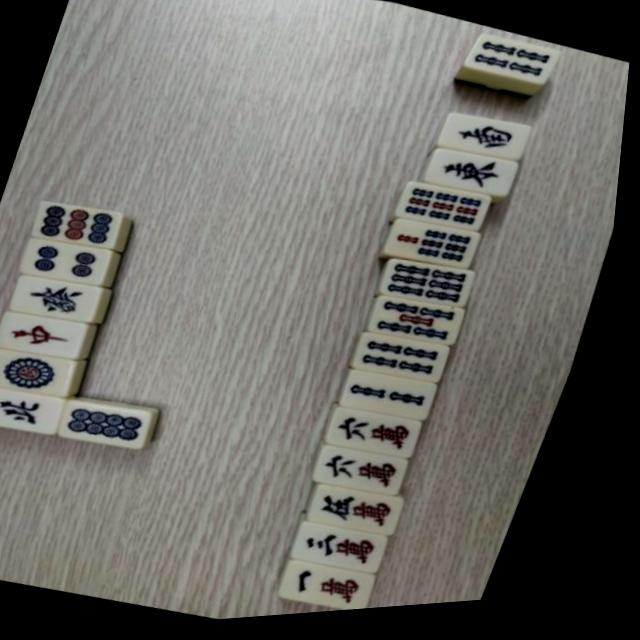hdg: (15, 263, 112, 330)
hdr: (6, 301, 97, 366)
hwe: (435, 150, 522, 194)
hwn: (0, 375, 80, 441)
hws: (451, 114, 533, 156)
sb2: (358, 371, 446, 414)
sb4: (369, 334, 457, 379), (475, 36, 561, 80)
sb5: (382, 299, 472, 343)
sb6: (393, 260, 482, 304)
sb7: (398, 220, 487, 265)
sb9: (407, 182, 496, 228)
sc1: (303, 563, 392, 607)
sc3: (315, 524, 404, 568)
sc5: (330, 486, 418, 530)
sc6: (333, 447, 423, 491), (346, 409, 431, 454)
sd1: (0, 337, 90, 405)
sd4: (27, 226, 121, 293)
sd8: (70, 390, 167, 456)
sd9: (37, 188, 132, 258)
